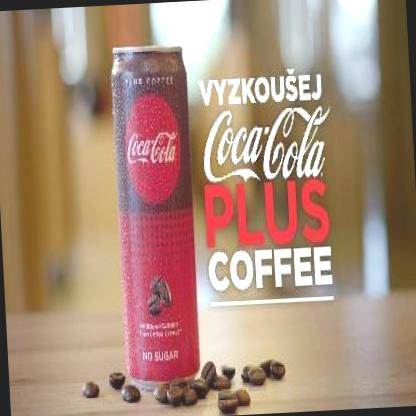alumunium_can: (106, 38, 205, 388)
